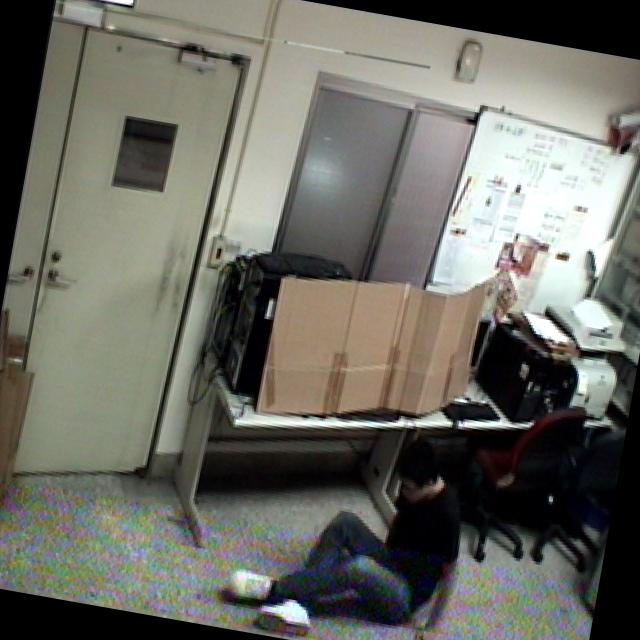sit: (209, 399, 488, 640)
